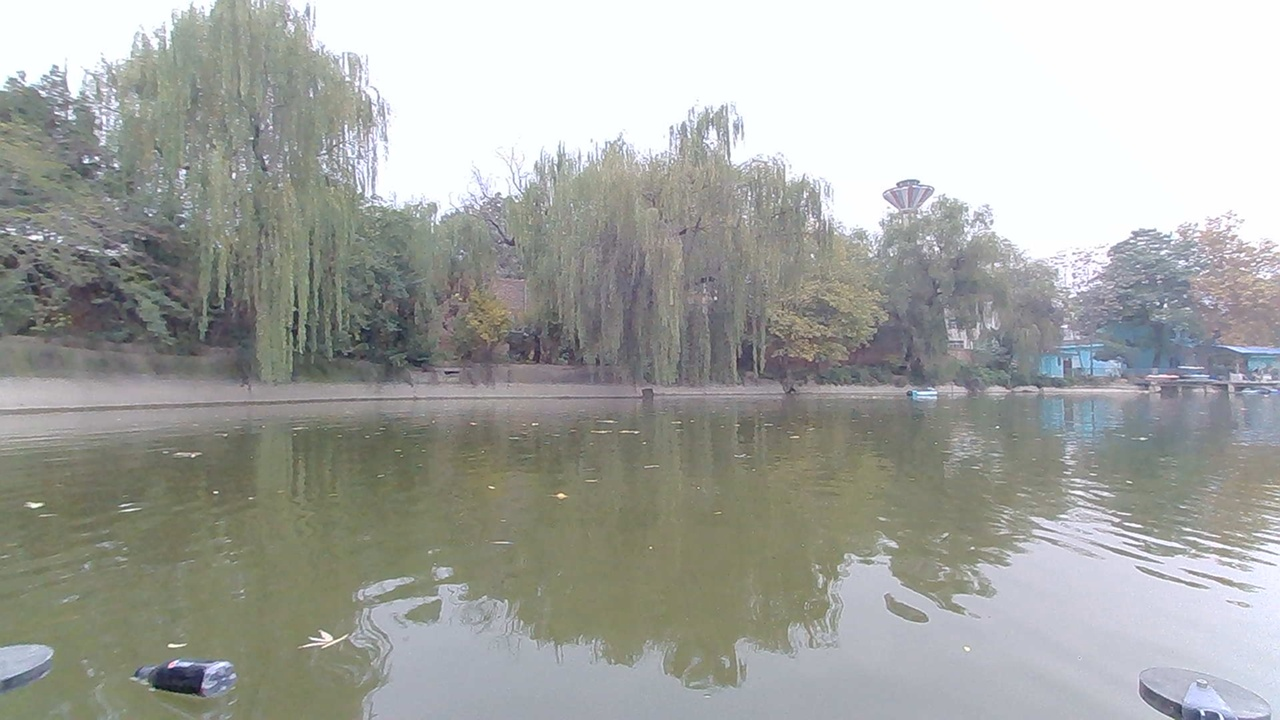bottle: (168, 664, 222, 698)
